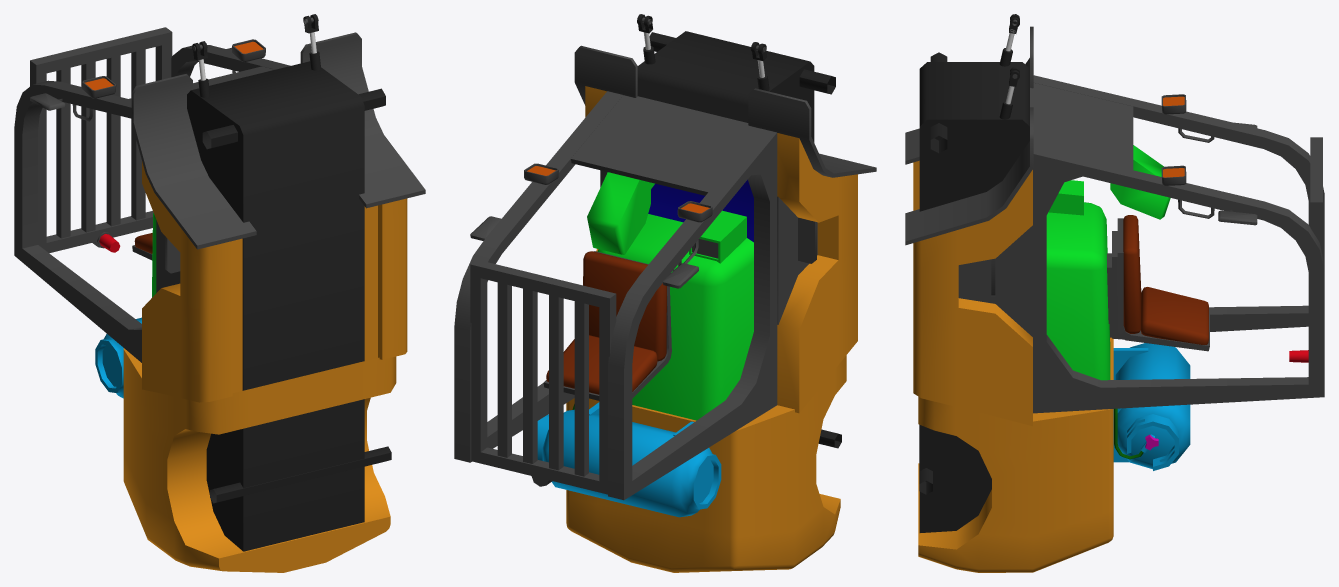
Rendered from Forklift_01.fbx.
The picture shows the model from 3 angles, left to right: view 1: azimuth 30°, elevation 25°; view 2: azimuth 150°, elevation 25°; view 3: azimuth 270°, elevation 25°; orthographic projection. The views are drawn at different scales.
Parts seen in each view (by area): view 1: ForkliftBodywork_low; view 2: ForkliftBodywork_low; view 3: ForkliftBodywork_low.
Part boxes in pixels (left/top/right/bottom): ForkliftBodywork_low: left=14, top=14, right=425, bottom=572; ForkliftBodywork_low: left=454, top=14, right=876, bottom=572; ForkliftBodywork_low: left=905, top=14, right=1324, bottom=572.
Size of the model in its own units: 1.32 by 2.82 by 2.14.
